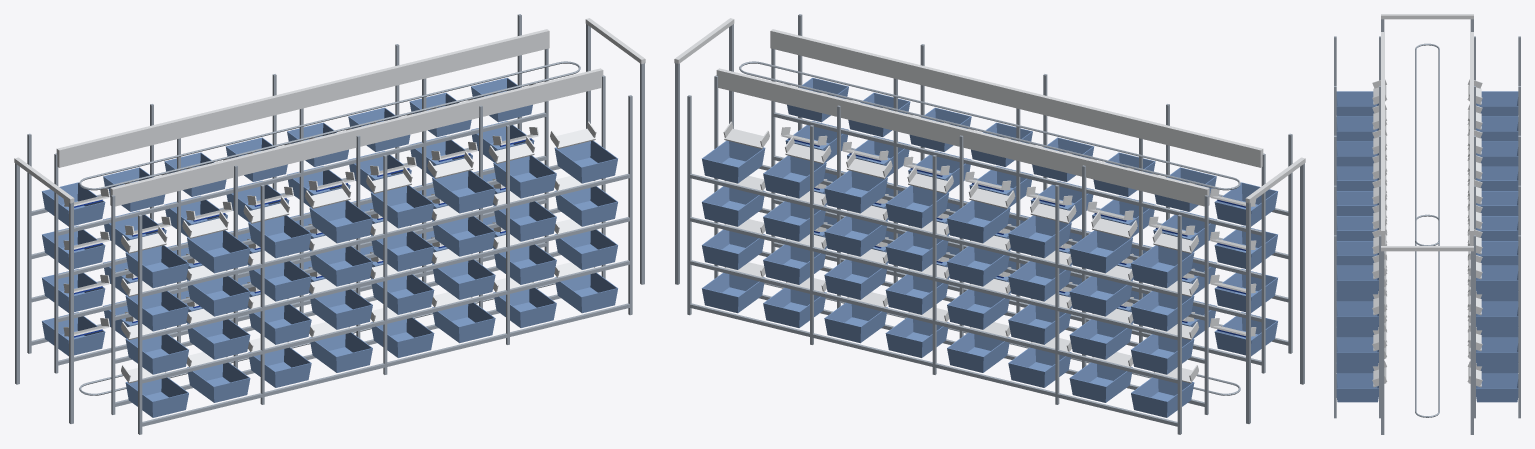
File: SM_MPR_SorterSimBody64_LOD1.fbx
3 renders of one model, left to right at view 1: azimuth 30°, elevation 25°; view 2: azimuth 150°, elevation 25°; view 3: azimuth 270°, elevation 25°, orthographic. The views are drawn at different scales.
Parts seen in each view (by area): view 1: SM_MPR_SorterSimBody64_LOD1; view 2: SM_MPR_SorterSimBody64_LOD1; view 3: SM_MPR_SorterSimBody64_LOD1.
Boxes of the visible parts, x1,y1,x2,y2 form: SM_MPR_SorterSimBody64_LOD1: (14, 14, 645, 434); SM_MPR_SorterSimBody64_LOD1: (674, 14, 1305, 434); SM_MPR_SorterSimBody64_LOD1: (1334, 14, 1520, 434).
Bounding box in the file's own units: 620 × 209 × 232.
